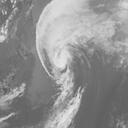cyclone: (36, 28, 78, 86)
